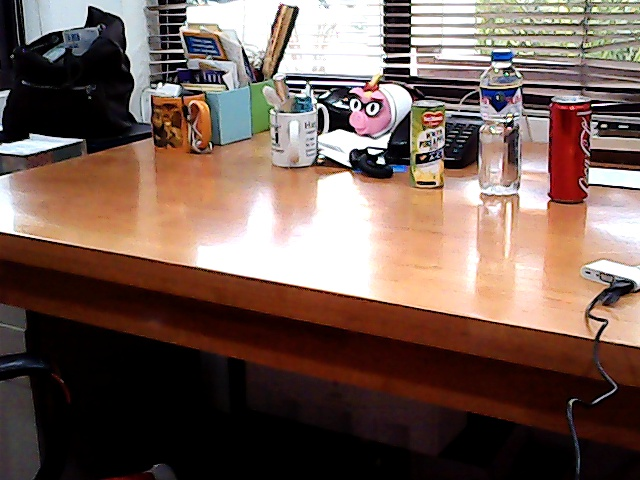Cola: (543, 90, 601, 210)
Pine Juice: (401, 94, 456, 197)
Summit Water: (466, 45, 535, 204)
